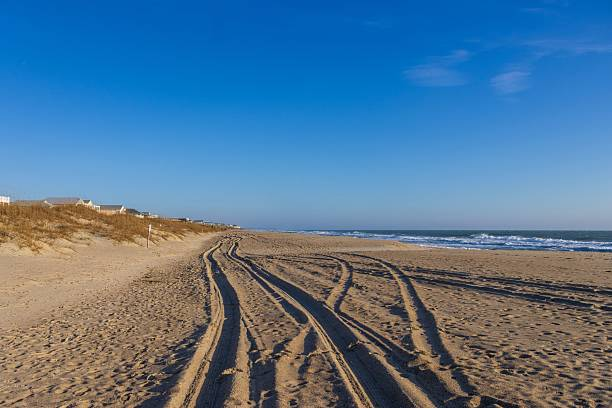vehicle_track: (229, 243, 436, 406), (347, 253, 516, 406), (168, 241, 240, 407)
